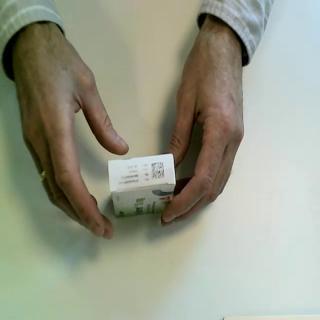oxynorm10mg: (107, 152, 177, 221)
